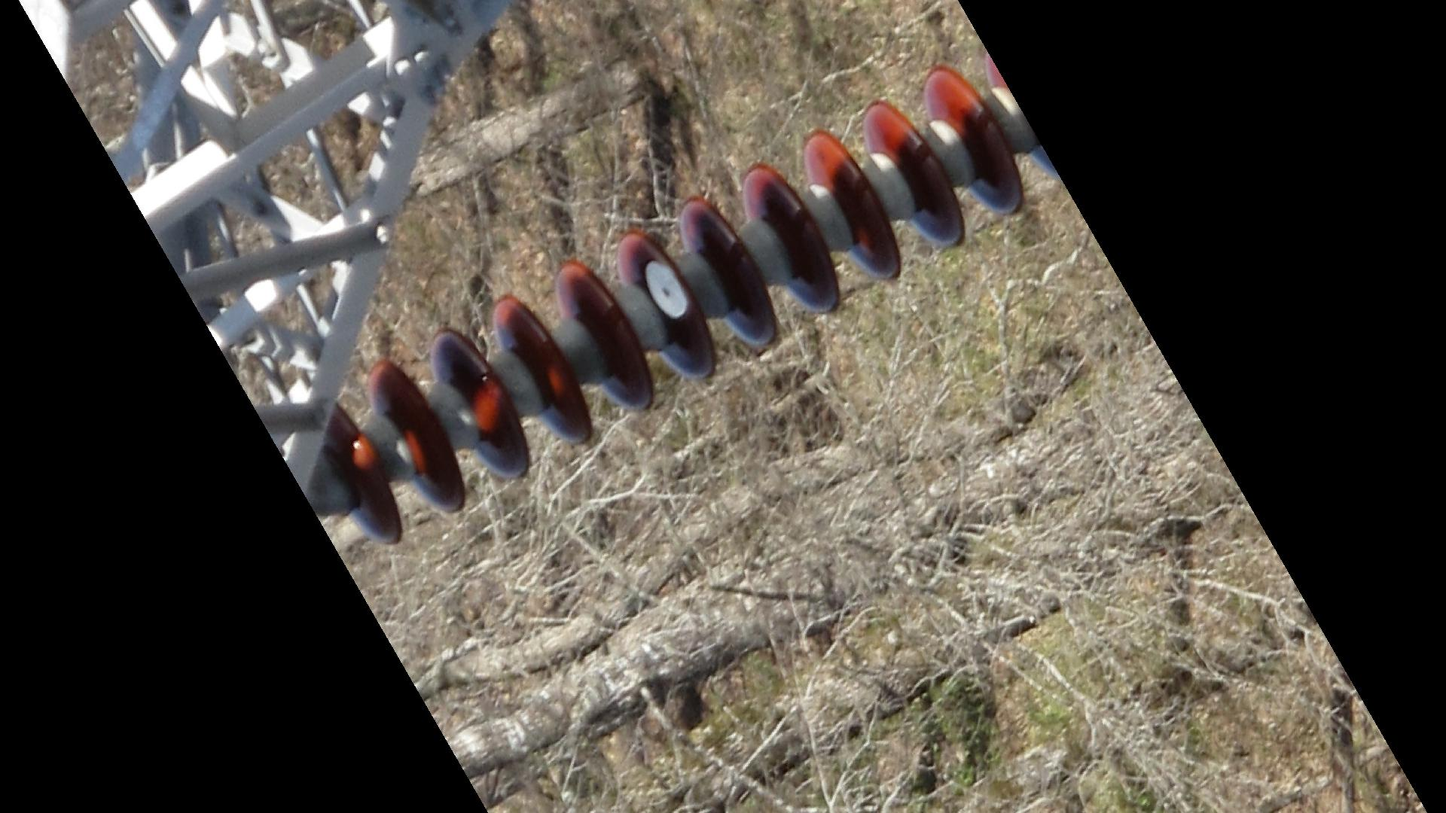insulator: (325, 48, 1047, 550)
insulator_breakage: (637, 253, 700, 327)
